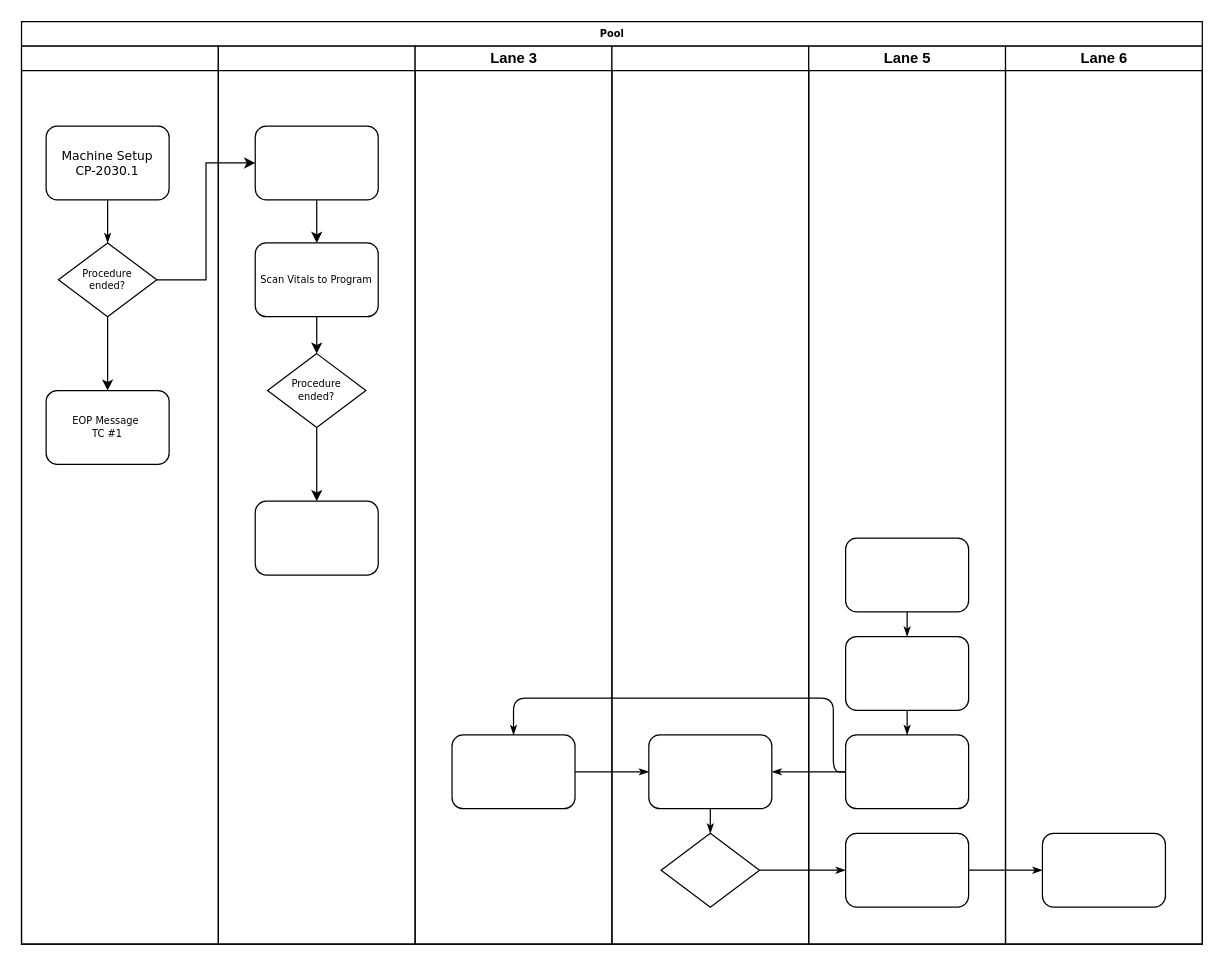
The diagram is 1224 pixels wide and 966 high, and some of its shapes have lost their labels. Here are the shapes that lost their labels. From the top down, the box of each, then its label:
(254, 125, 378, 200): Donor ID, Arm Prep, Venipuncture CP-2040.1
(20, 45, 218, 944): Lane 1
(217, 45, 415, 944): Lane 2
(611, 45, 809, 944): Lane 4
(254, 500, 378, 575): EOP Message TC #2
